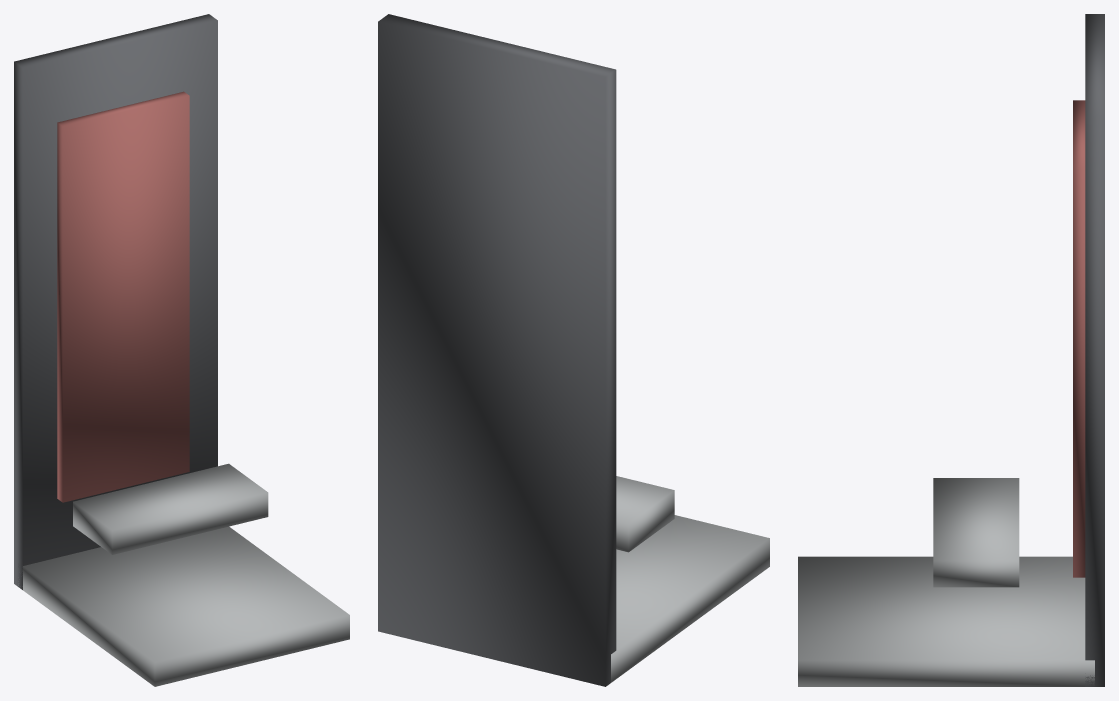
Rendered from roof_access_hatch_stair_09.glb.
The picture shows the model from 3 angles, left to right: view 1: azimuth 30°, elevation 25°; view 2: azimuth 150°, elevation 25°; view 3: azimuth 270°, elevation 25°; orthographic projection. The views are drawn at different scales.
Visible parts, largest first — view 1: world; view 2: world; view 3: world.
Boxes of the visible parts, bbox=[...] form: world: bbox=[14, 14, 349, 686]; world: bbox=[378, 14, 769, 686]; world: bbox=[798, 14, 1104, 686].
Bounding box in the file's own units: 1 × 2.56 × 1.25.
